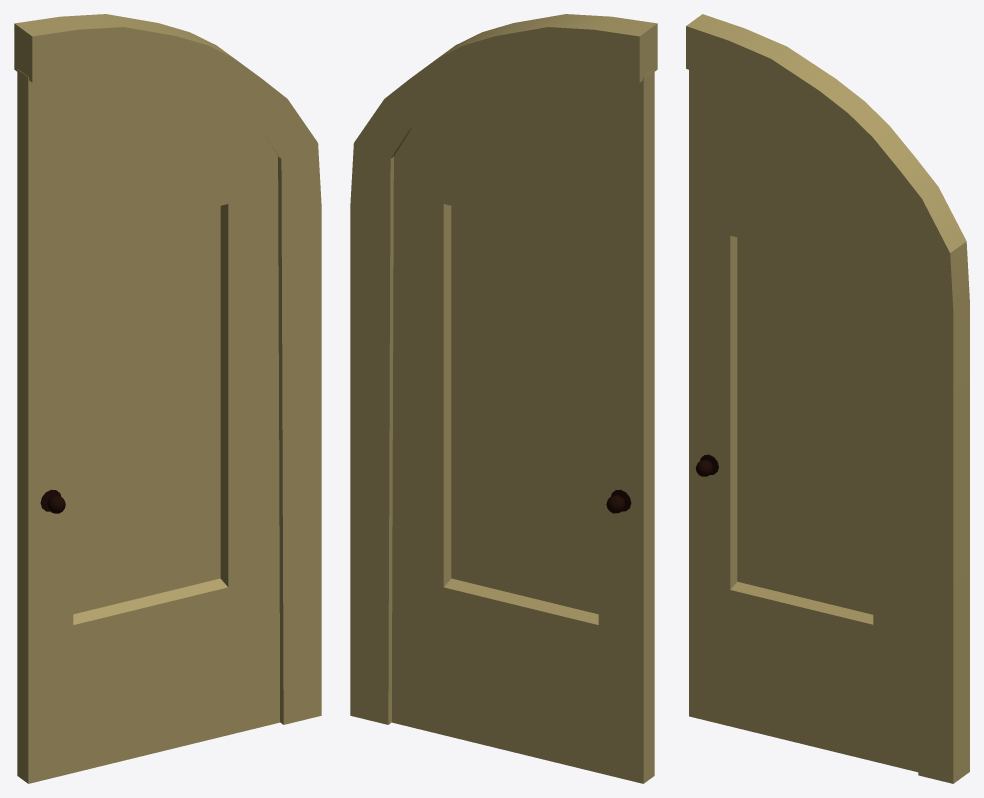
Rendered from Front Door.fbx.
The picture shows the model from 3 angles, left to right: view 1: azimuth 30°, elevation 25°; view 2: azimuth 150°, elevation 25°; view 3: azimuth 330°, elevation 25°; orthographic projection. The views are drawn at different scales.
Visible parts, largest first — view 1: Box049, Box050; view 2: Box049, Box050; view 3: Box049, Box050.
Boxes of the visible parts, x1,y1,x2,y2 form: Box049: [17, 69, 279, 783]; Box050: [14, 14, 321, 724]; Box049: [392, 69, 654, 783]; Box050: [350, 14, 657, 724]; Box049: [689, 70, 918, 772]; Box050: [686, 14, 969, 783].
Bounding box in the file's own units: 107 × 265 × 20.11.
